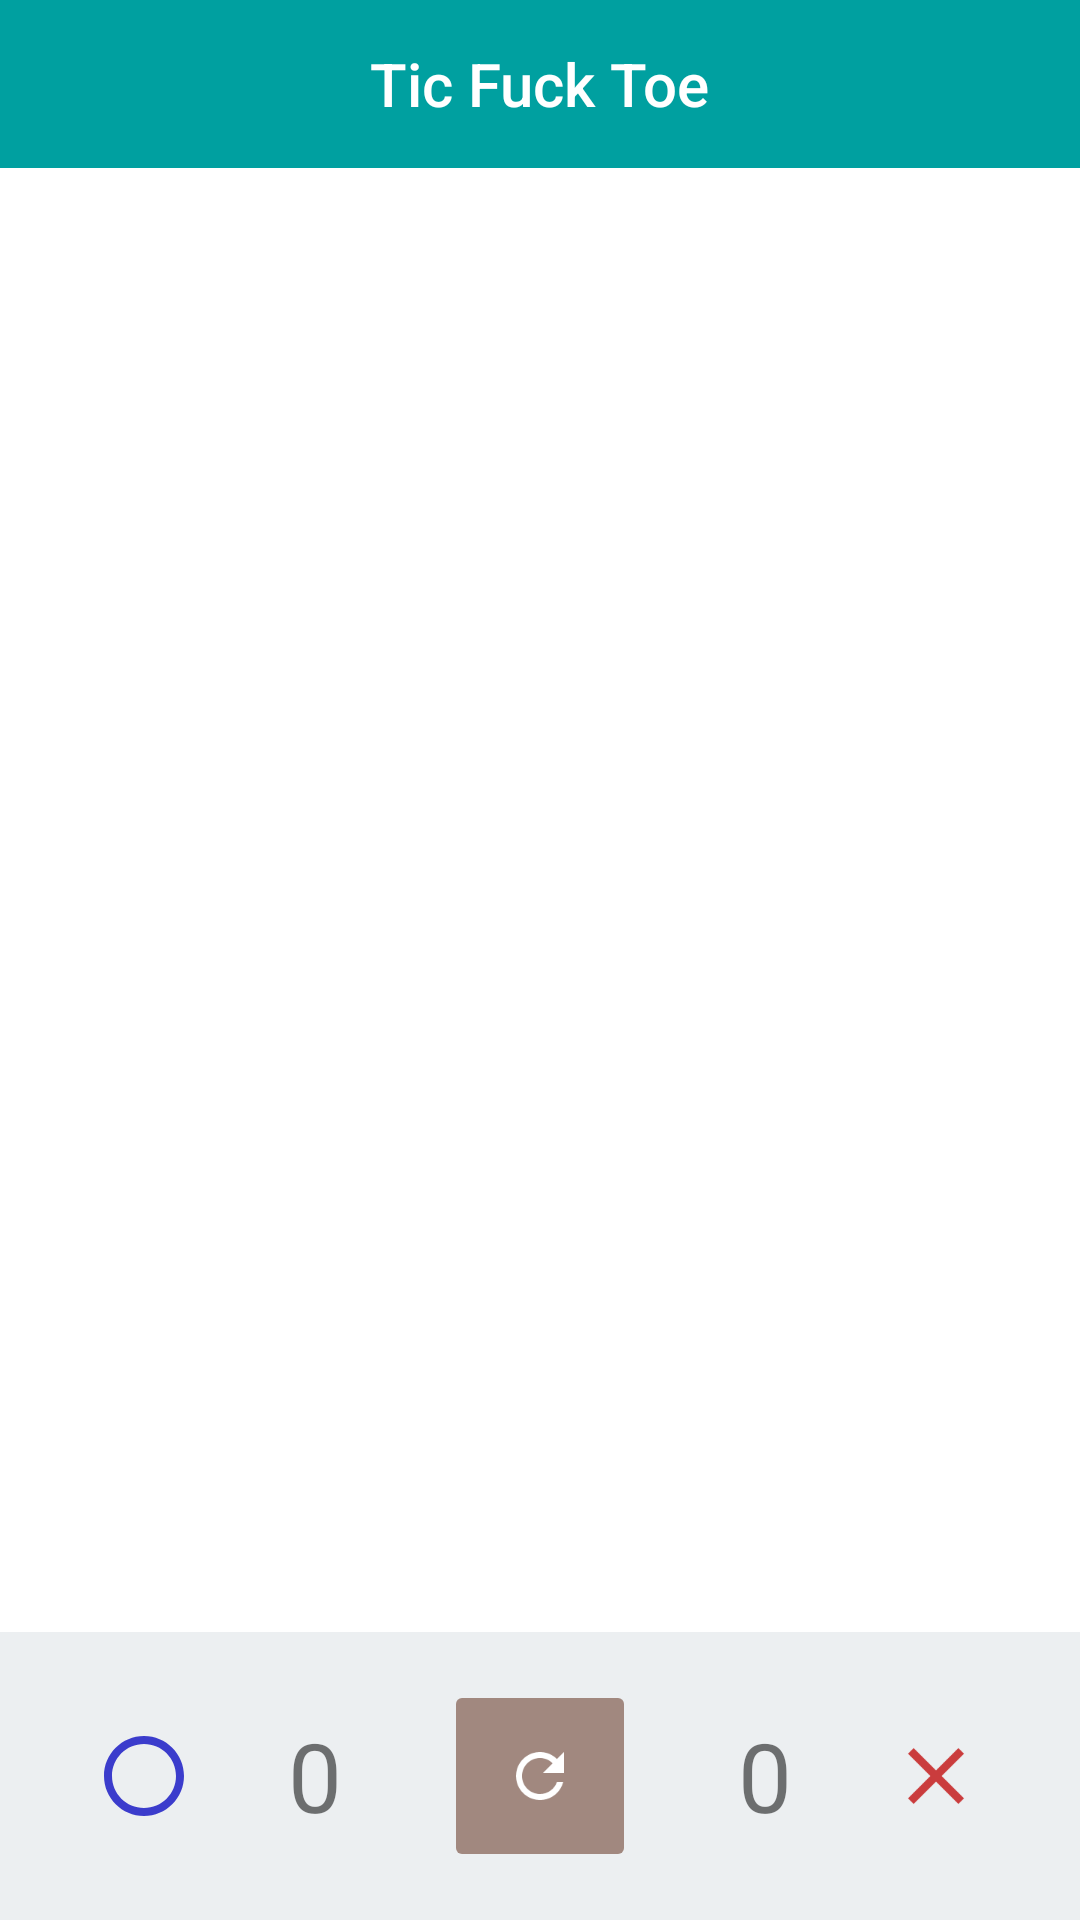

Named icons in this screenshot (1080px x 1920px) and their centers, [x,y]:
reset: [540,1776]
